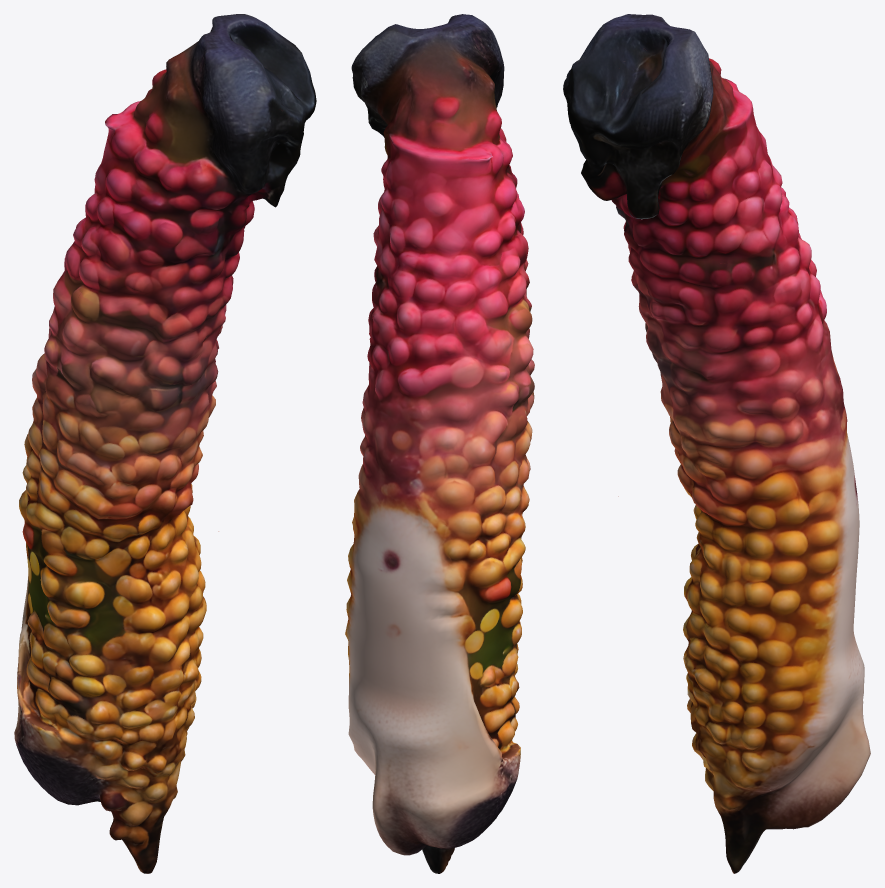
File: Acung.fbx
3 renders of one model, left to right at view 1: azimuth 30°, elevation 25°; view 2: azimuth 150°, elevation 25°; view 3: azimuth 270°, elevation 25°, orthographic. The views are drawn at different scales.
Visible parts, largest first — view 1: model; view 2: model; view 3: model.
Boxes of the visible parts, x1,y1,x2,y2 form: model: [14, 14, 316, 873]; model: [345, 14, 534, 873]; model: [563, 14, 870, 873].
Bounding box in the file's own units: 50.99 × 190 × 61.11.
Materials: 1 (1 with a texture image).
